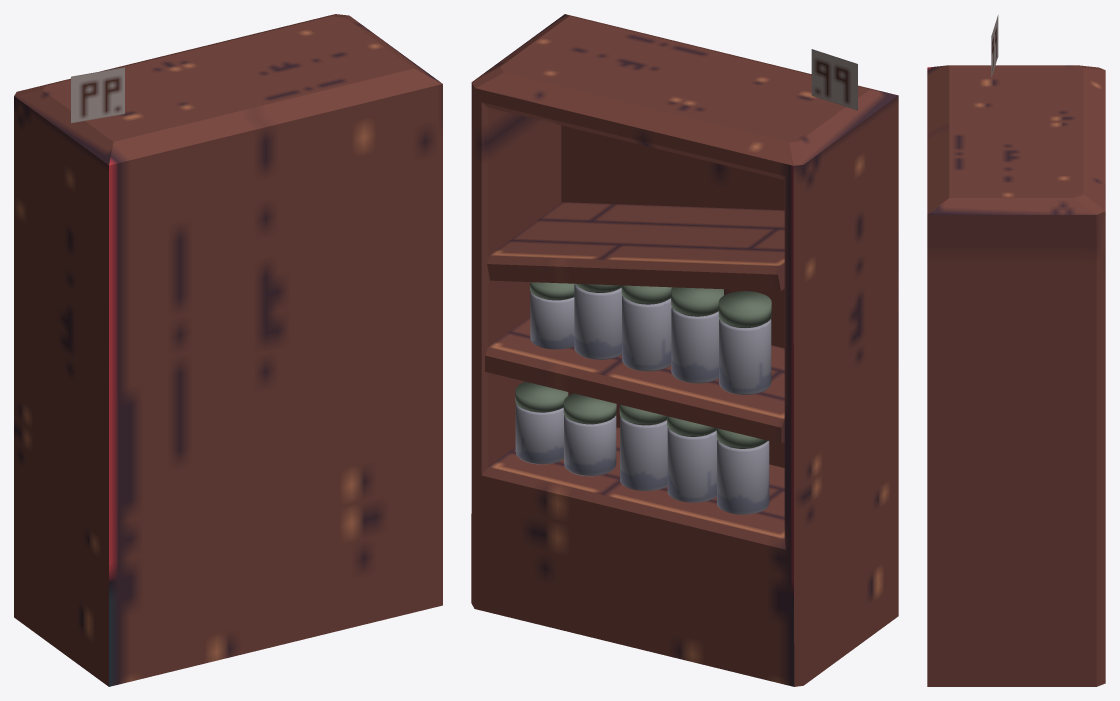
File: Armario2.fbx
The picture shows the model from 3 angles, left to right: view 1: azimuth 30°, elevation 25°; view 2: azimuth 150°, elevation 25°; view 3: azimuth 270°, elevation 25°; orthographic projection. The views are drawn at different scales.
Parts seen in each view (by area): view 1: Armario2; view 2: Armario2; view 3: Armario2.
Part boxes in pixels (<box>): Armario2: <box>14,14,442,686</box>; Armario2: <box>471,14,898,686</box>; Armario2: <box>927,15,1105,686</box>.
Size of the model in its own units: 194 by 99.18 by 323.
